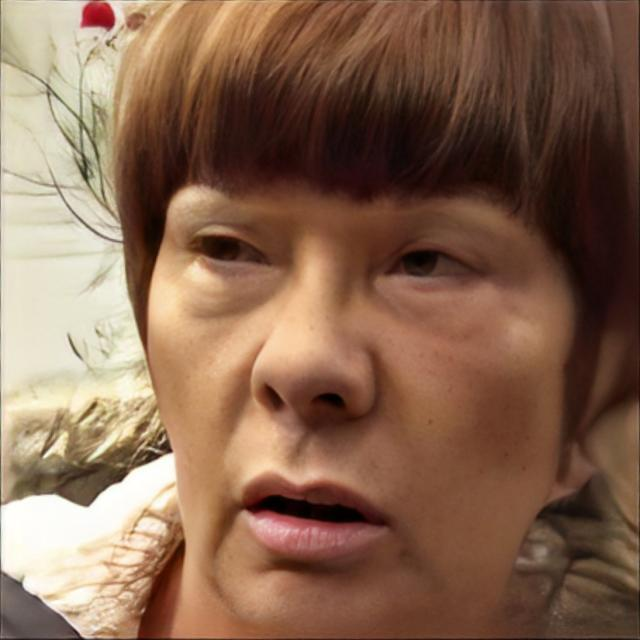disgust: (144, 117, 576, 640)
